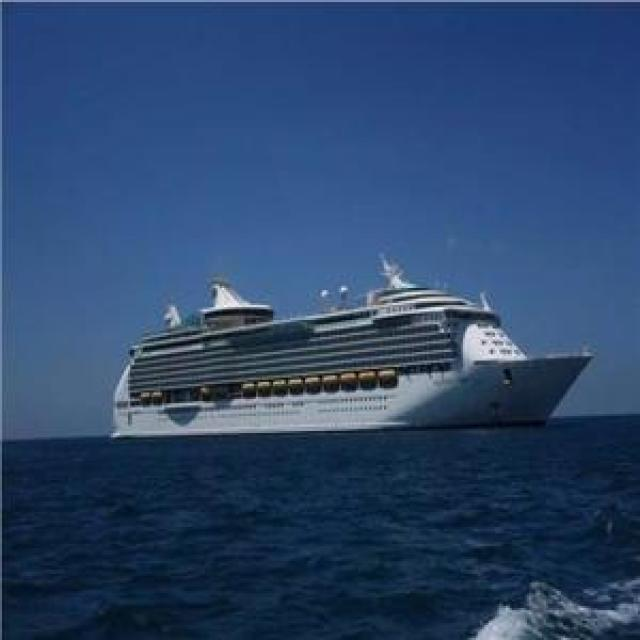passenger ship: (79, 266, 608, 454)
